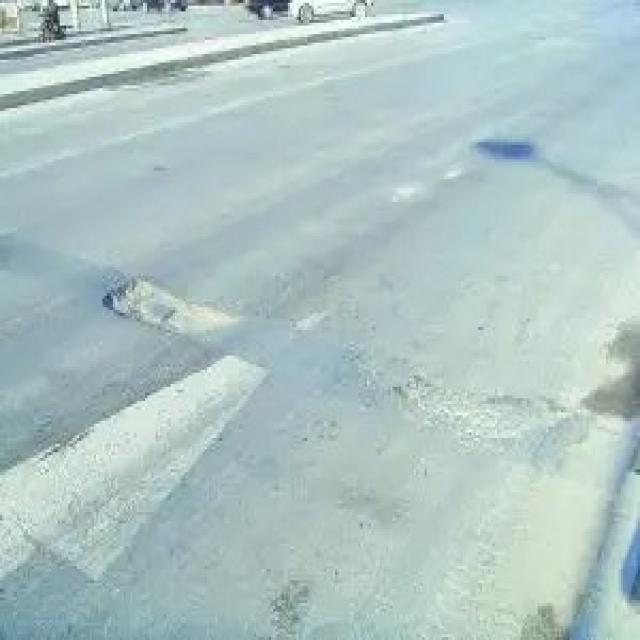Pothole: (399, 367, 602, 466), (100, 270, 222, 361)
